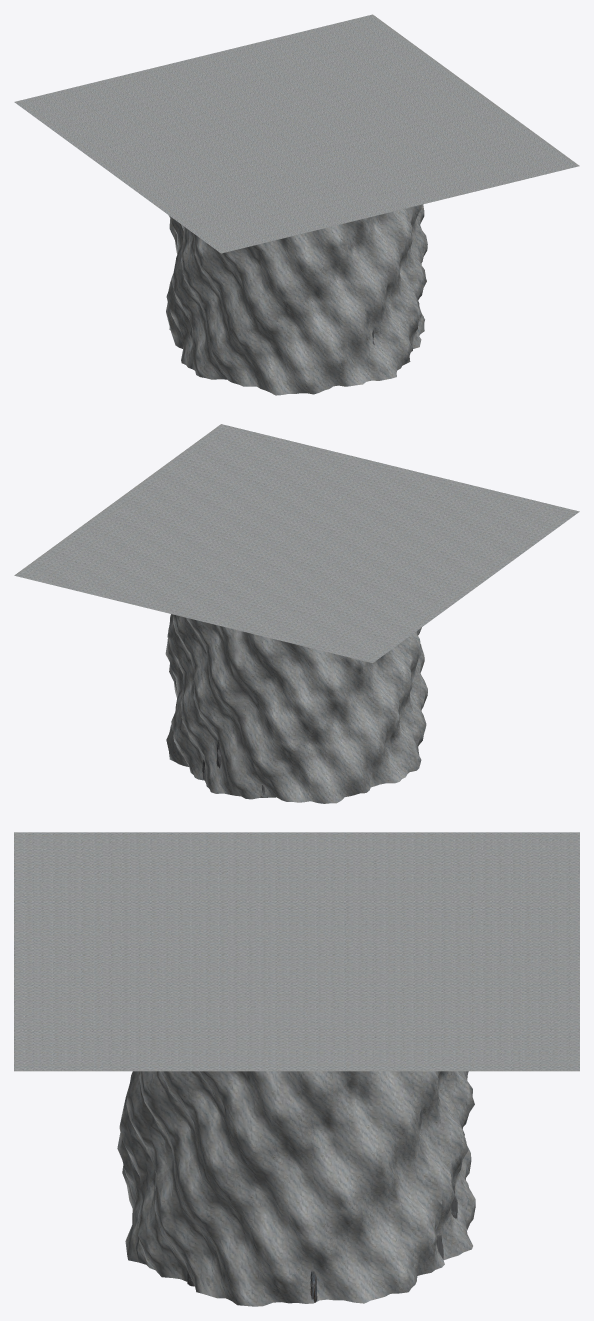
File: room.glb
The picture shows the model from 3 angles, top to bottom: view 1: azimuth 30°, elevation 25°; view 2: azimuth 150°, elevation 25°; view 3: azimuth 270°, elevation 25°; orthographic projection. The views are drawn at different scales.
Visible parts, largest first — view 1: VAIR-4; view 2: VAIR-4; view 3: VAIR-4.
Boxes of the visible parts, box(x1,y1,x2,y2) form: VAIR-4: box(14, 14, 579, 395); VAIR-4: box(14, 424, 579, 803); VAIR-4: box(14, 832, 579, 1306).
Bounding box in the file's own units: 136 × 75 × 136.
1 material, 1 textured.
